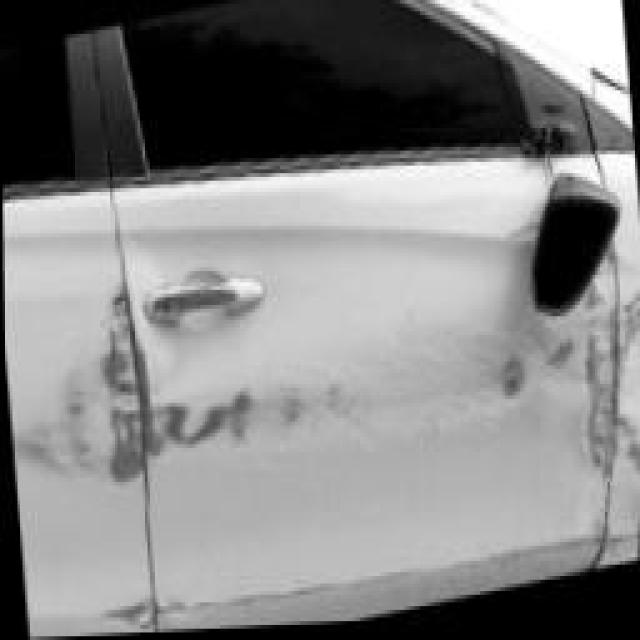Door: (122, 196, 627, 617), (2, 271, 140, 514)
Fender: (592, 226, 640, 514)
